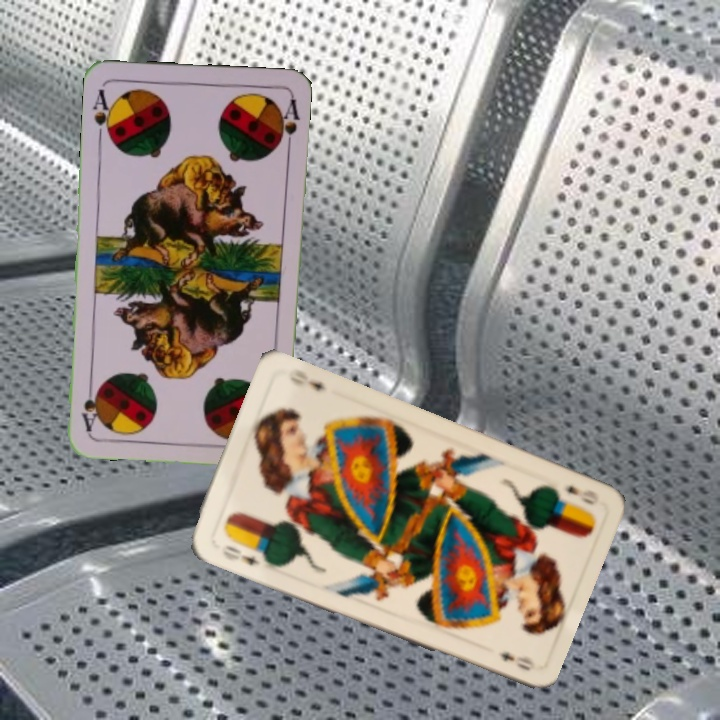EO: (217, 541, 262, 568), (562, 481, 602, 508)
SA: (89, 84, 116, 143)
